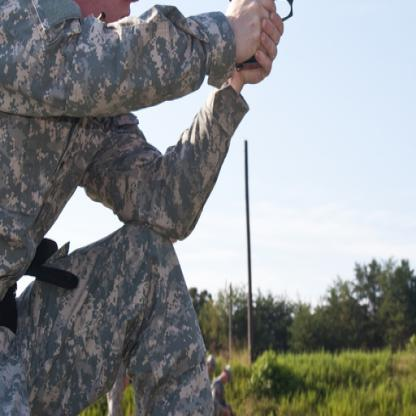gun: (227, 0, 337, 66)
